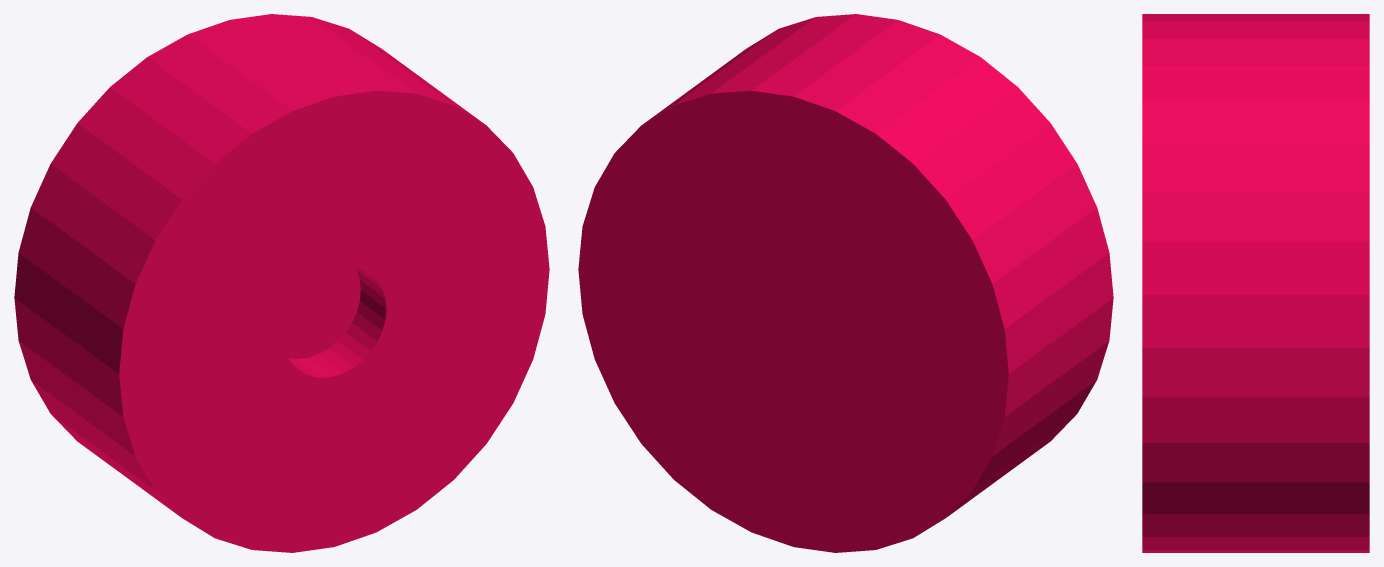
The model's file is left_front.dae.
The picture shows the model from 3 angles, left to right: view 1: azimuth 30°, elevation 25°; view 2: azimuth 150°, elevation 25°; view 3: azimuth 270°, elevation 25°; orthographic projection. The views are drawn at different scales.
Visible parts, largest first — view 1: left_front; view 2: left_front; view 3: left_front.
Boxes of the visible parts, left/top/right/bottom form: left_front: left=14, top=14, right=549, bottom=552; left_front: left=578, top=14, right=1113, bottom=552; left_front: left=1142, top=14, right=1369, bottom=552.
Bounding box in the file's own units: 0.2382 × 0.1005 × 0.2382.
